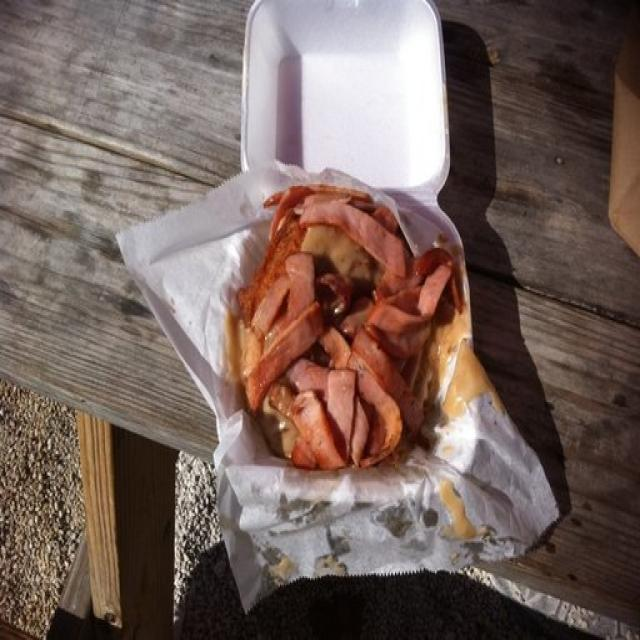French fries: (225, 169, 470, 521)
